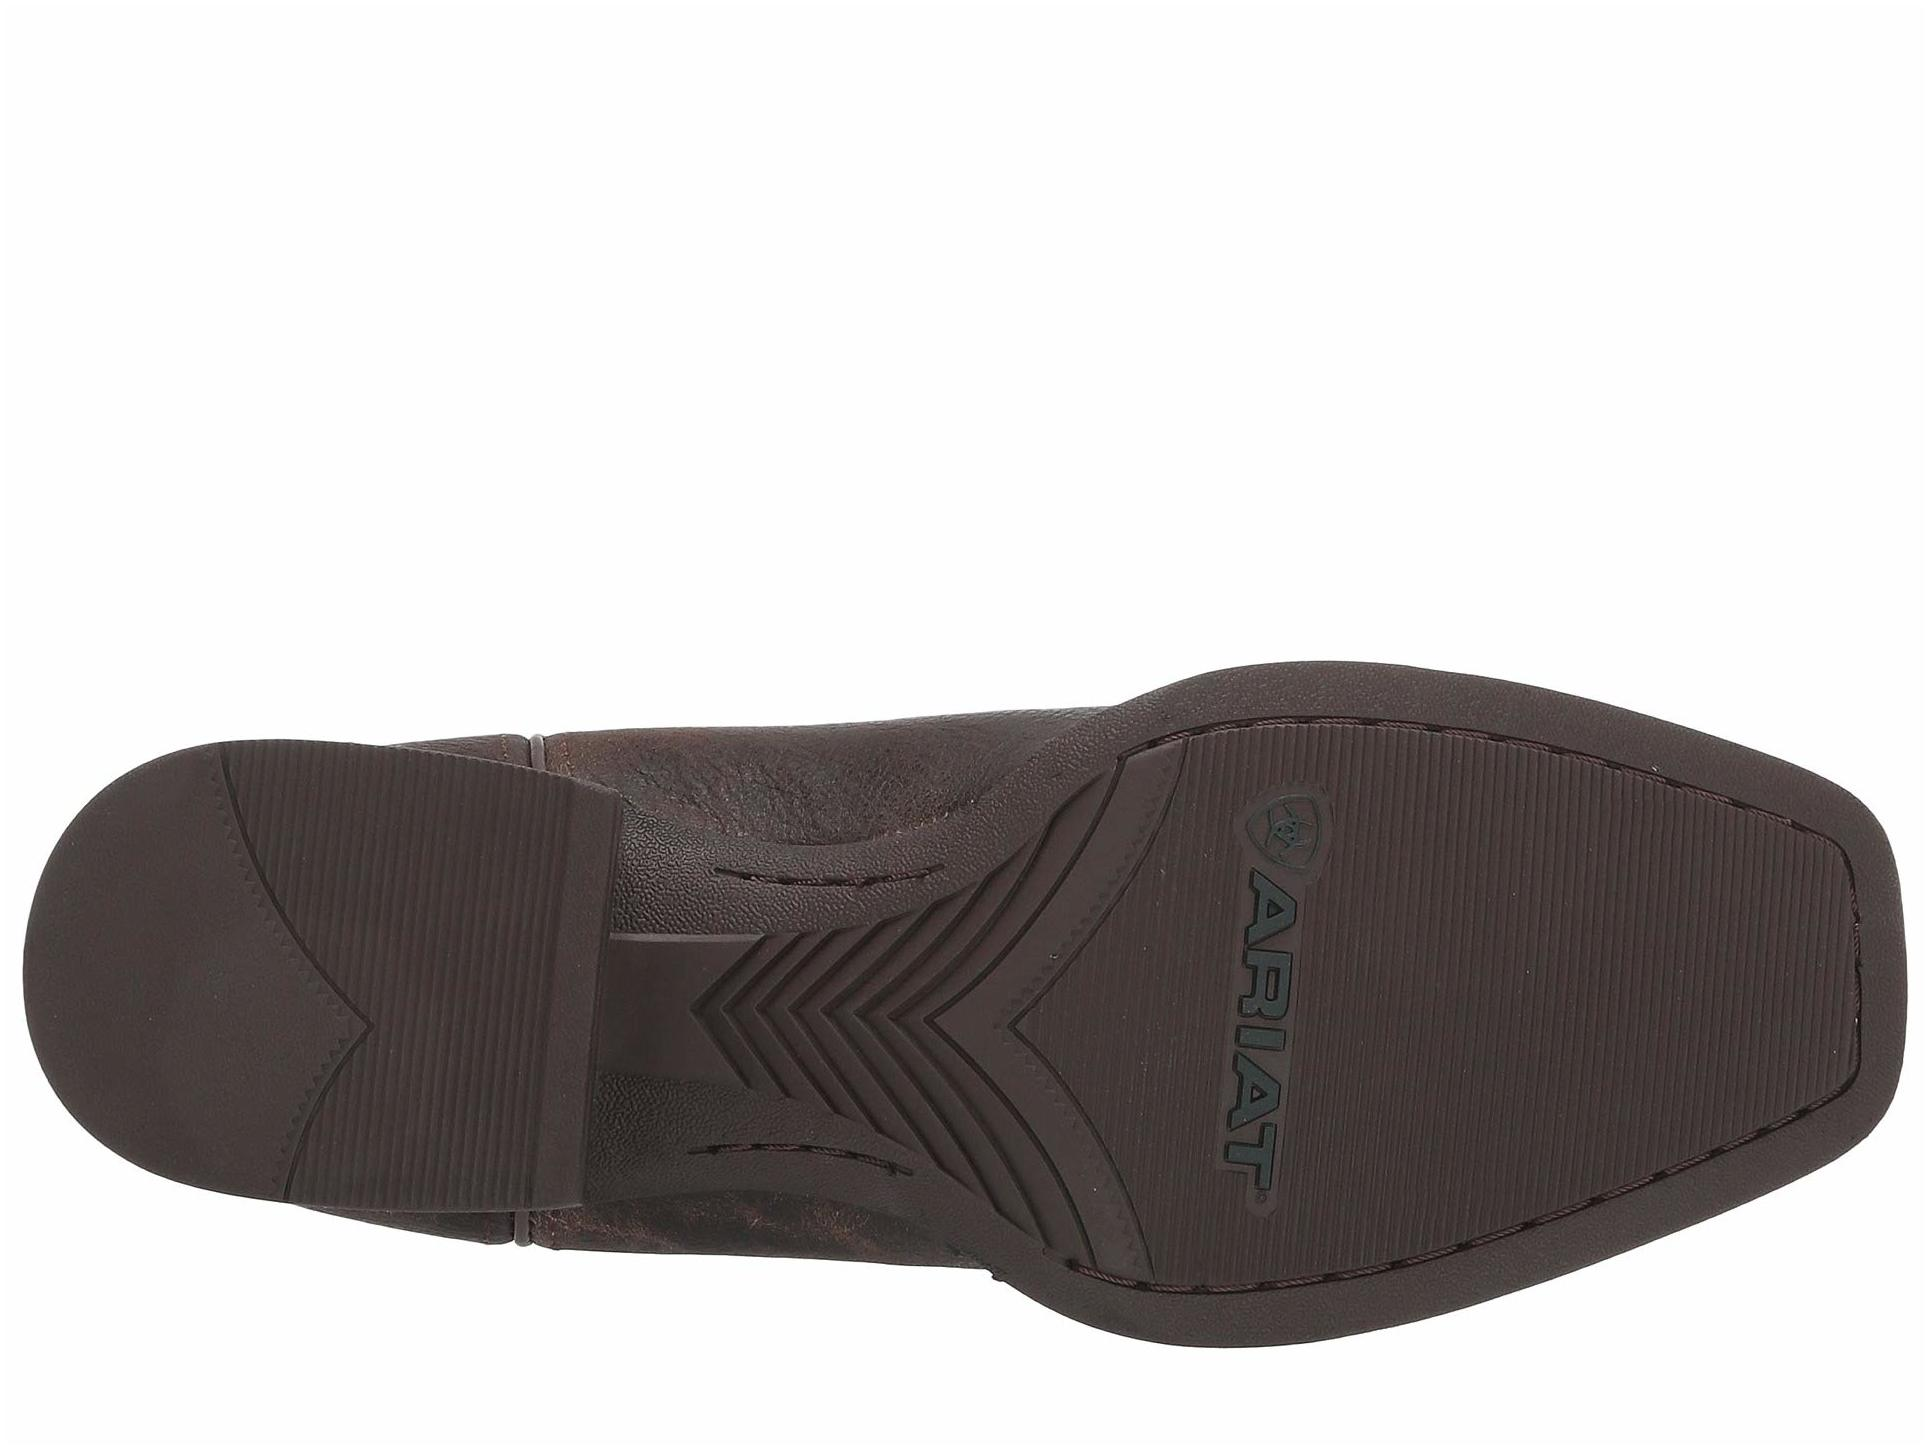line: (1404, 838, 1740, 1098), (376, 854, 529, 1171)
quad: (1193, 781, 1345, 1212)
text: (1193, 781, 1345, 1212)
triangle: (1193, 781, 1345, 1212)
